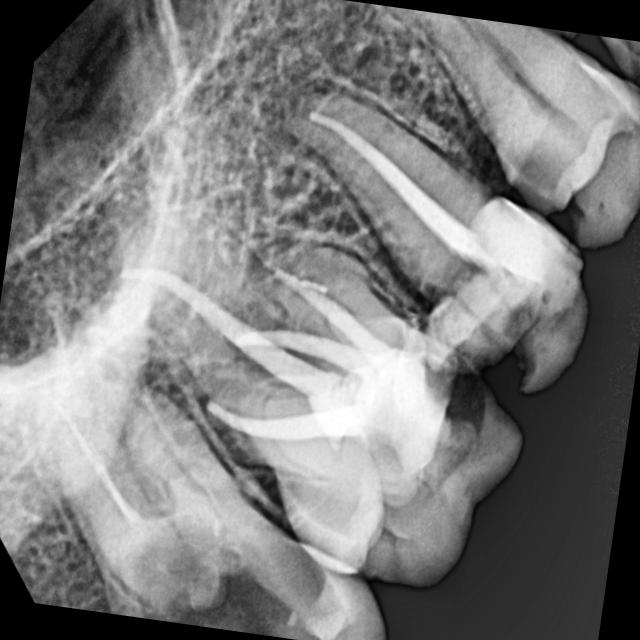Caries: (429, 337, 574, 489), (427, 92, 571, 245)
RCT: (51, 180, 476, 598), (224, 23, 625, 370)
